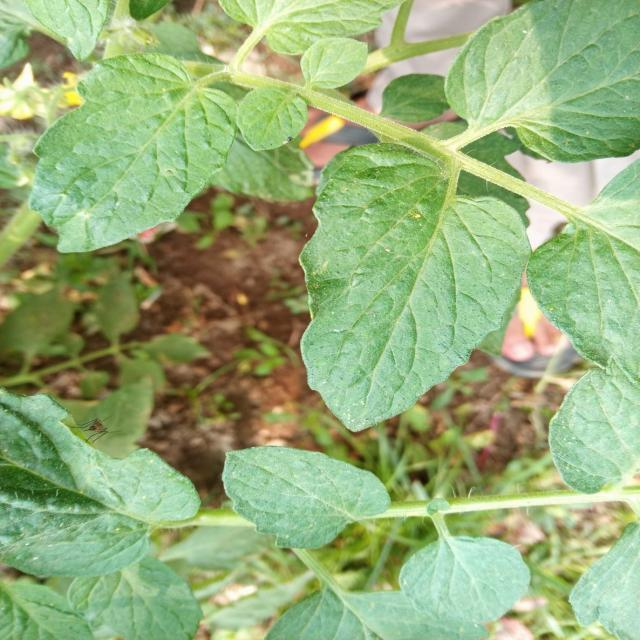Healthy: (220, 115, 556, 466), (0, 19, 259, 297), (446, 0, 639, 161), (217, 442, 393, 555)
